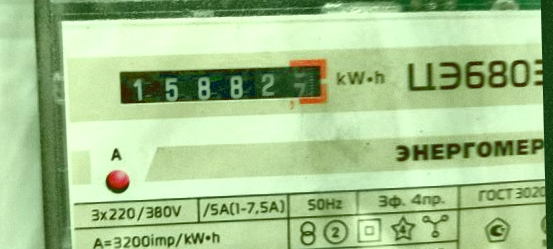1: (131, 73, 145, 102)
2: (258, 71, 276, 97)
5: (162, 74, 180, 104)
7: (292, 79, 305, 96)
8: (194, 73, 211, 102), (227, 71, 244, 100)
screen: (107, 49, 334, 116)
